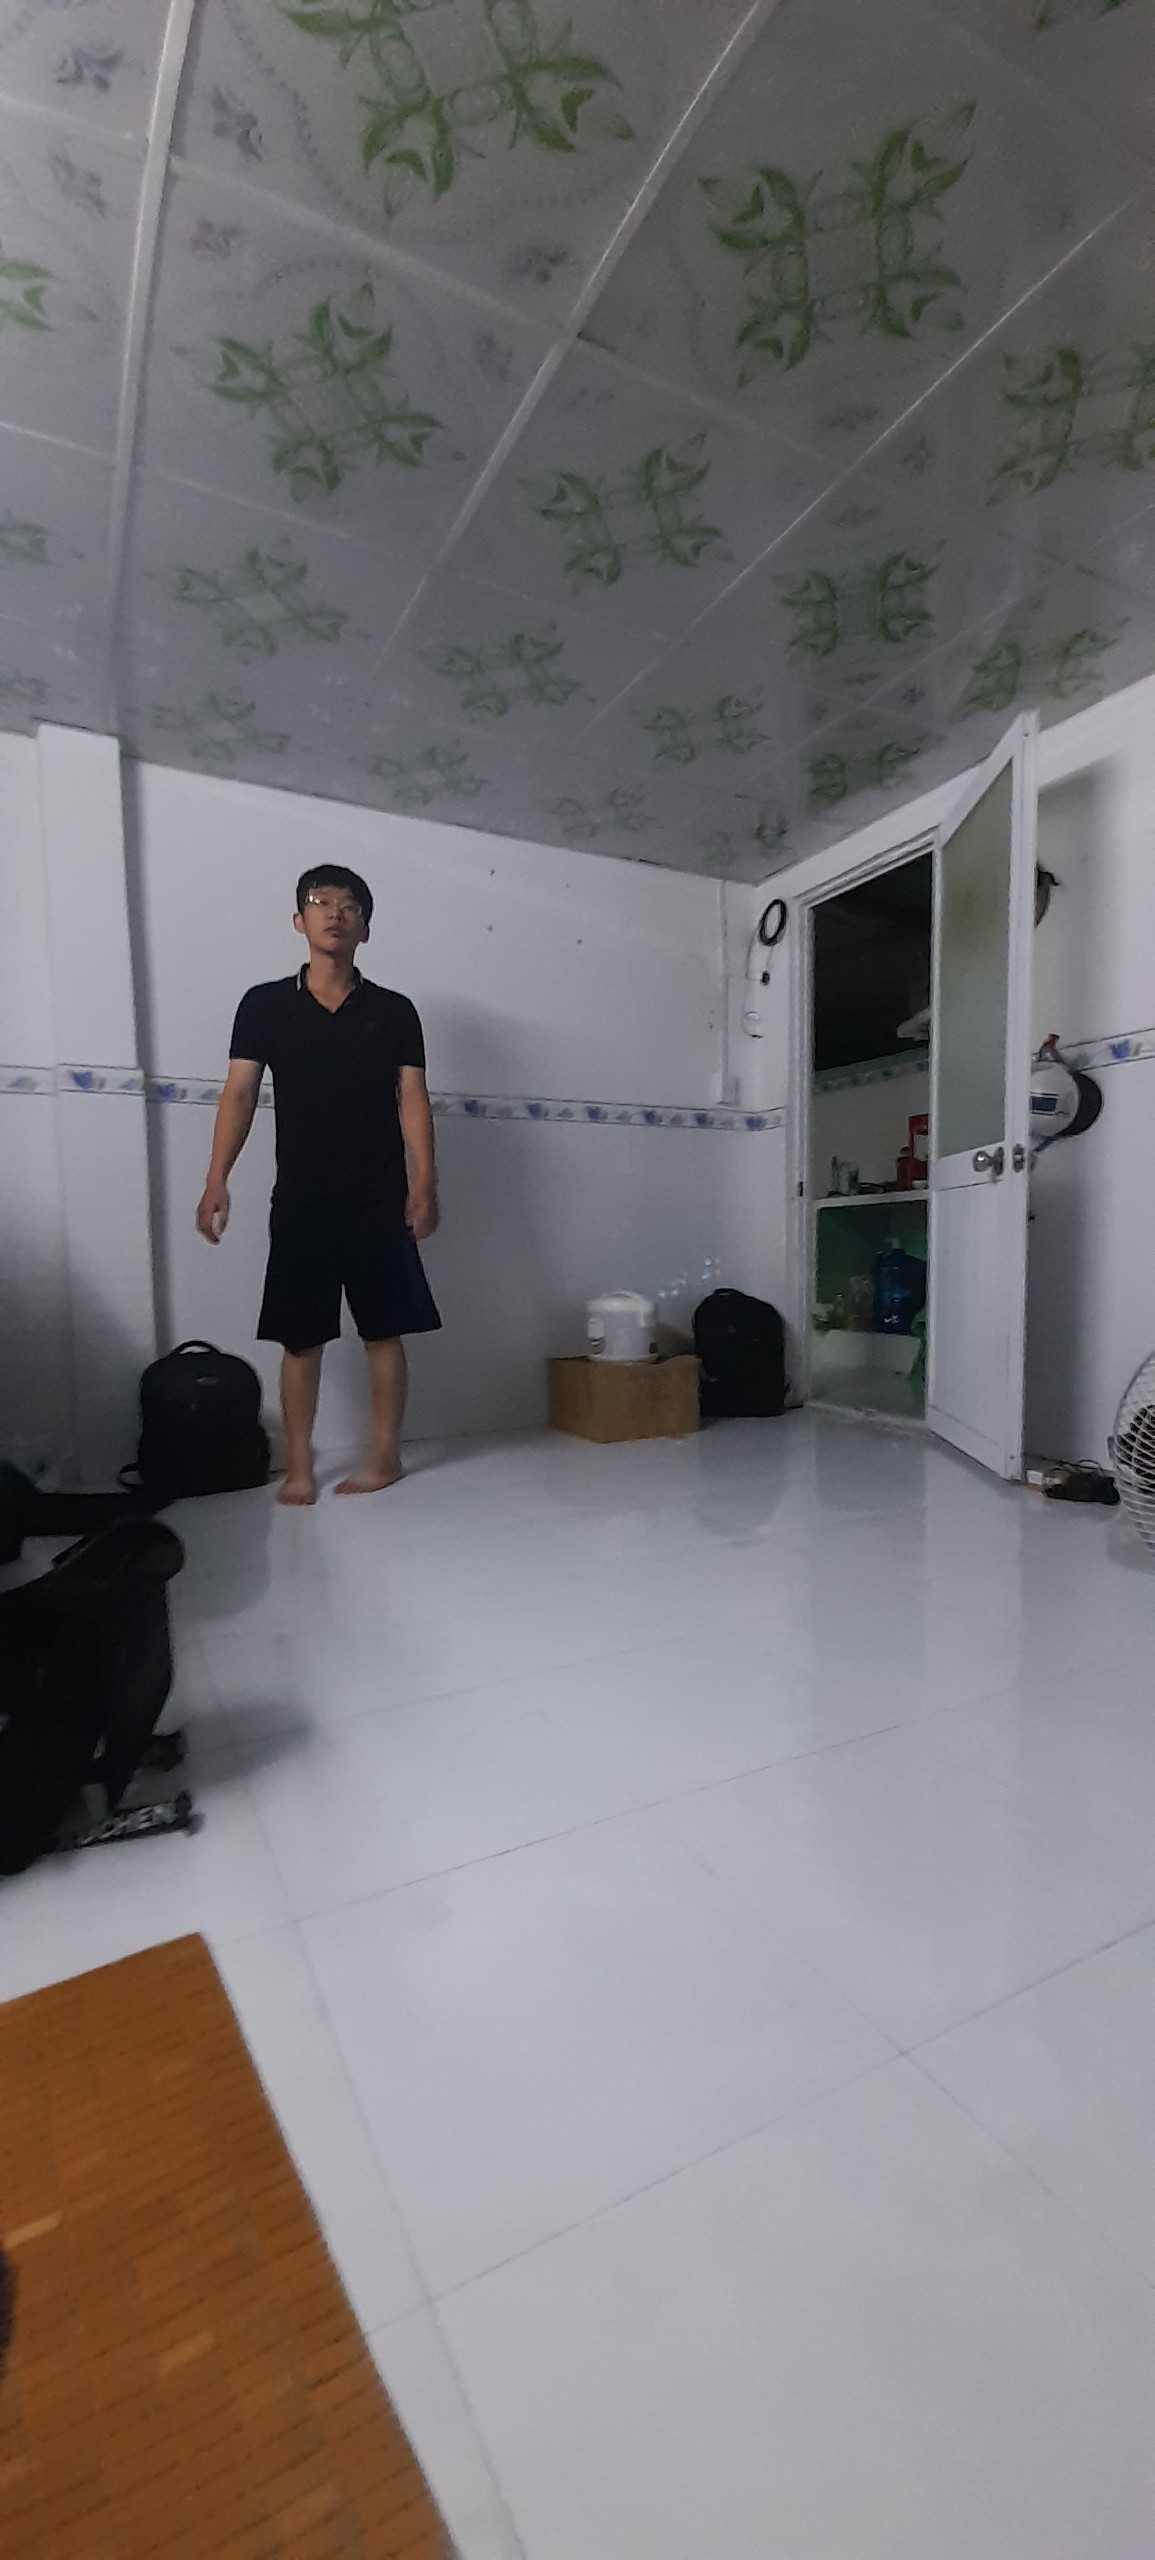person: (244, 863, 444, 1517)
